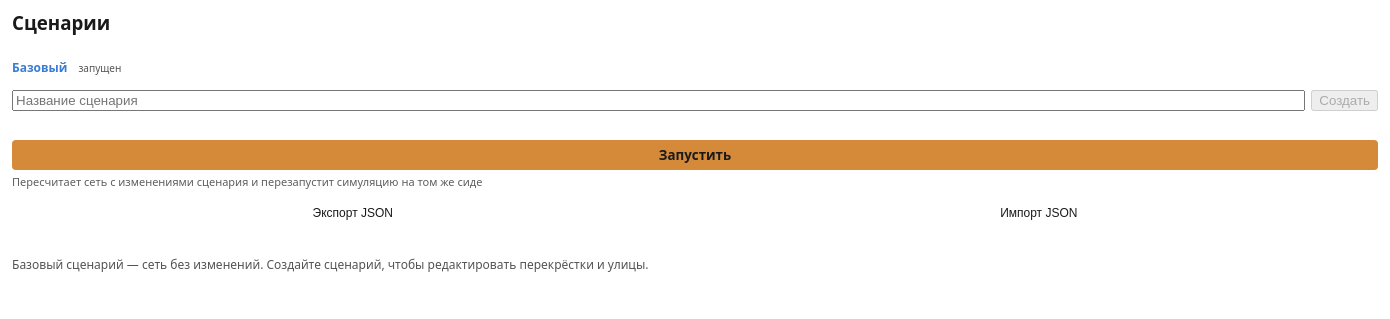
Test: ScenariosTab › creating a scenario selects it as active and shows the select-an-object hint
Type "A" into the field with placeholder "Название сценария" at point(659, 101), box top-left (12, 90), bottom-right (1305, 111)
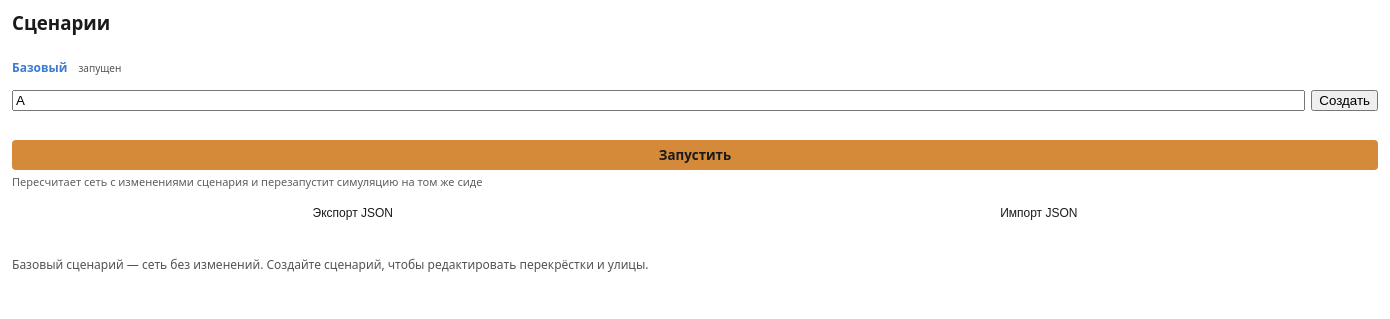
Click the button "Создать" at point(1345, 101), box top-left (1311, 90), bottom-right (1378, 111)
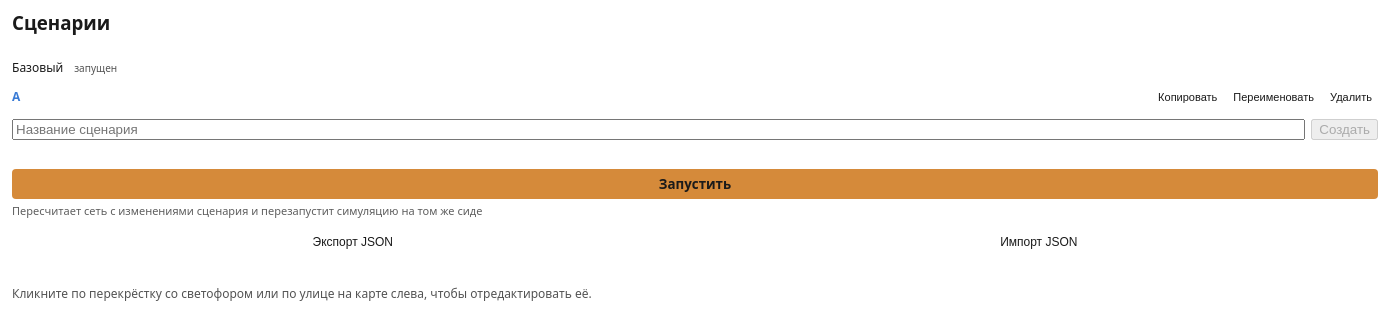
Expected: the text "Кликните по перекрёстку со светофором или по улице на карте слева, чтобы отредактировать её." is shown, top-left (12, 285), bottom-right (592, 302)
